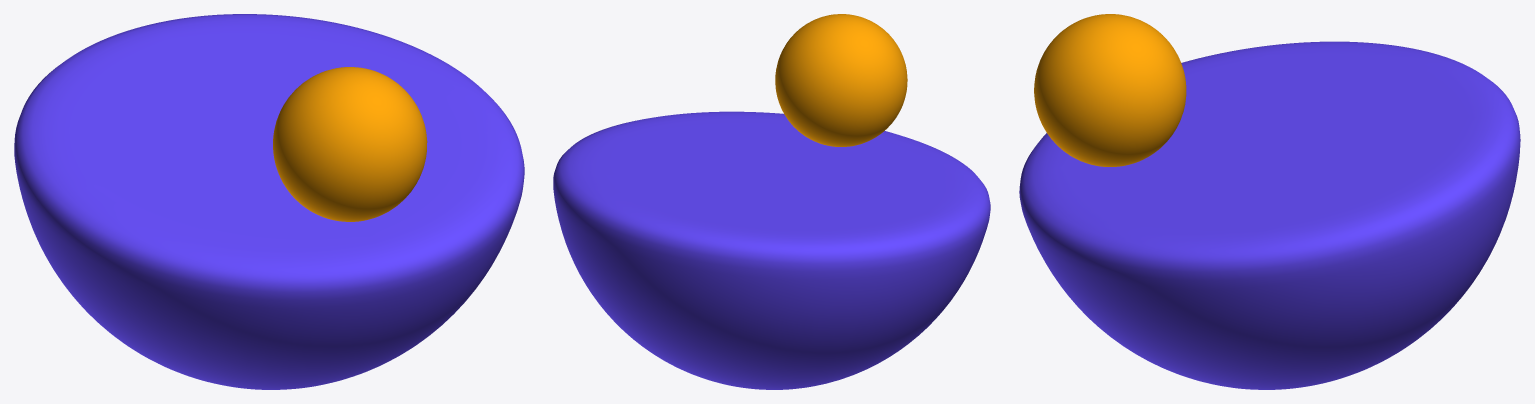
The model's file is balancing-loading-animated-3d-icon-421215759139.glb.
The picture shows the model from 3 angles, left to right: view 1: azimuth 30°, elevation 25°; view 2: azimuth 150°, elevation 25°; view 3: azimuth 270°, elevation 25°; orthographic projection. The views are drawn at different scales.
Parts seen in each view (by area): view 1: Sphere.002, Sphere.003; view 2: Sphere.002, Sphere.003; view 3: Sphere.002, Sphere.003.
Boxes of the visible parts, <box> form: Sphere.002: <box>14,14,524,389</box>; Sphere.003: <box>273,67,427,221</box>; Sphere.002: <box>553,111,990,389</box>; Sphere.003: <box>775,14,907,146</box>; Sphere.002: <box>1019,41,1520,389</box>; Sphere.003: <box>1034,14,1186,166</box>.
Bounding box in the file's own units: 1.96 × 1.48 × 1.94.
